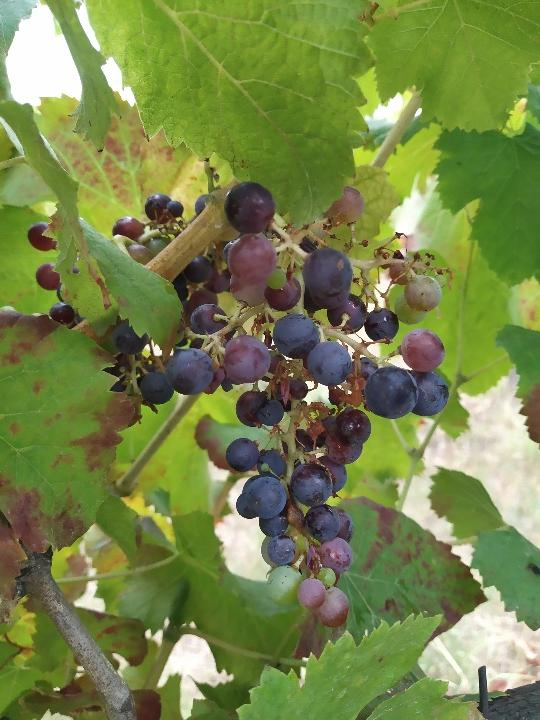grape: (25, 182, 463, 632)
